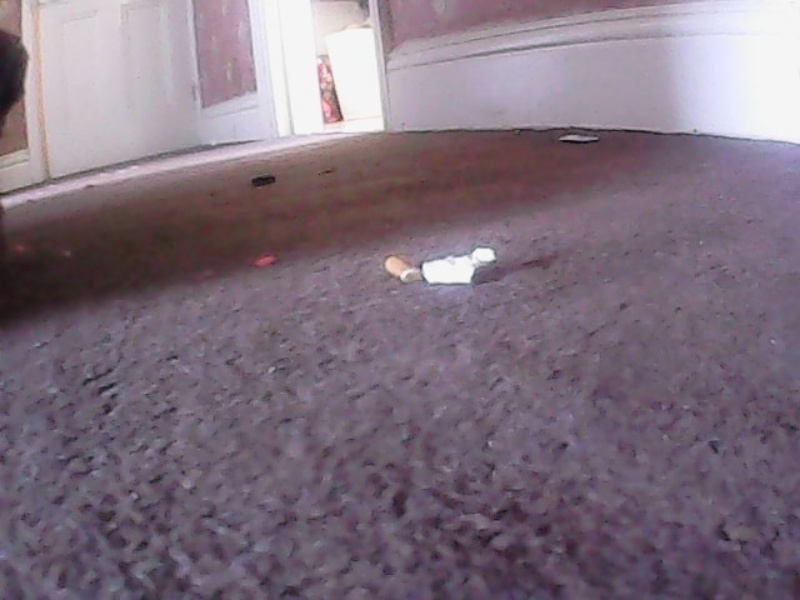cig: (381, 248, 496, 287)
